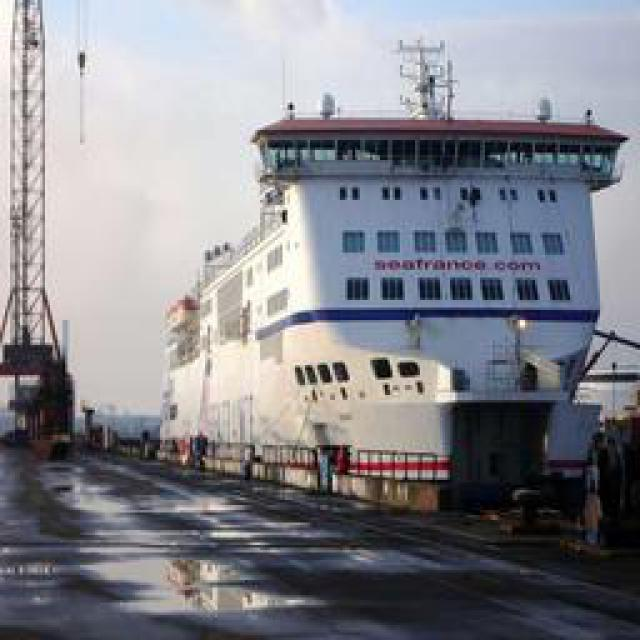Ship: (156, 84, 616, 527)
